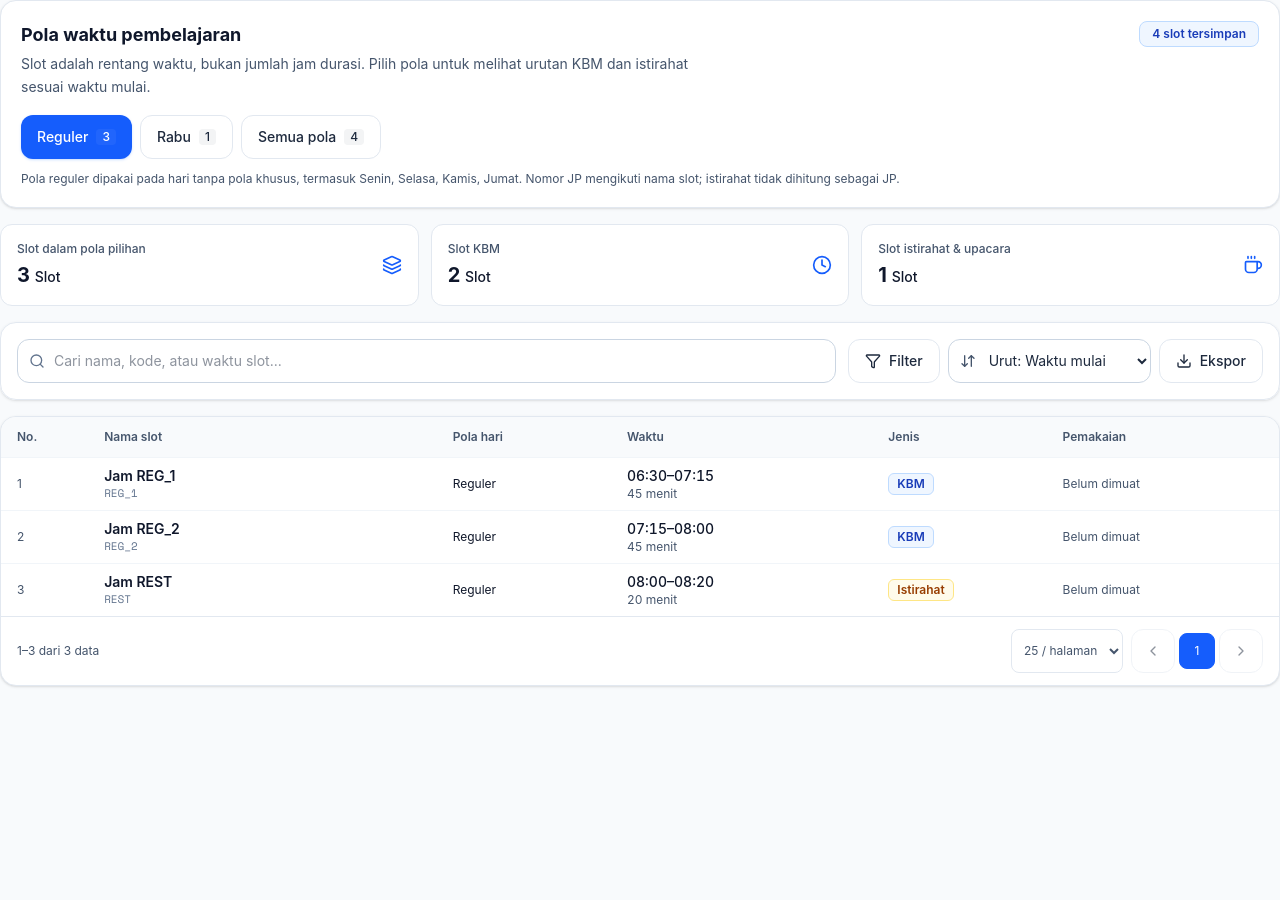
Scenario: Pola slot dan papan mingguan › nomor baris dimulai 1 pada pola Rabu, bukan 201, dan istirahat diurutkan menurut jam
This screenshot has width=1280, height=900.
Expected: the row that starts with "Jam REG_1" is shown, x1=104 y1=467 x2=176 y2=484
What coordinates should you click on to do the following:
click the button "Rabu 1"
I would click on:
 (186, 136)
Its box is x1=140 y1=114 x2=233 y2=158.
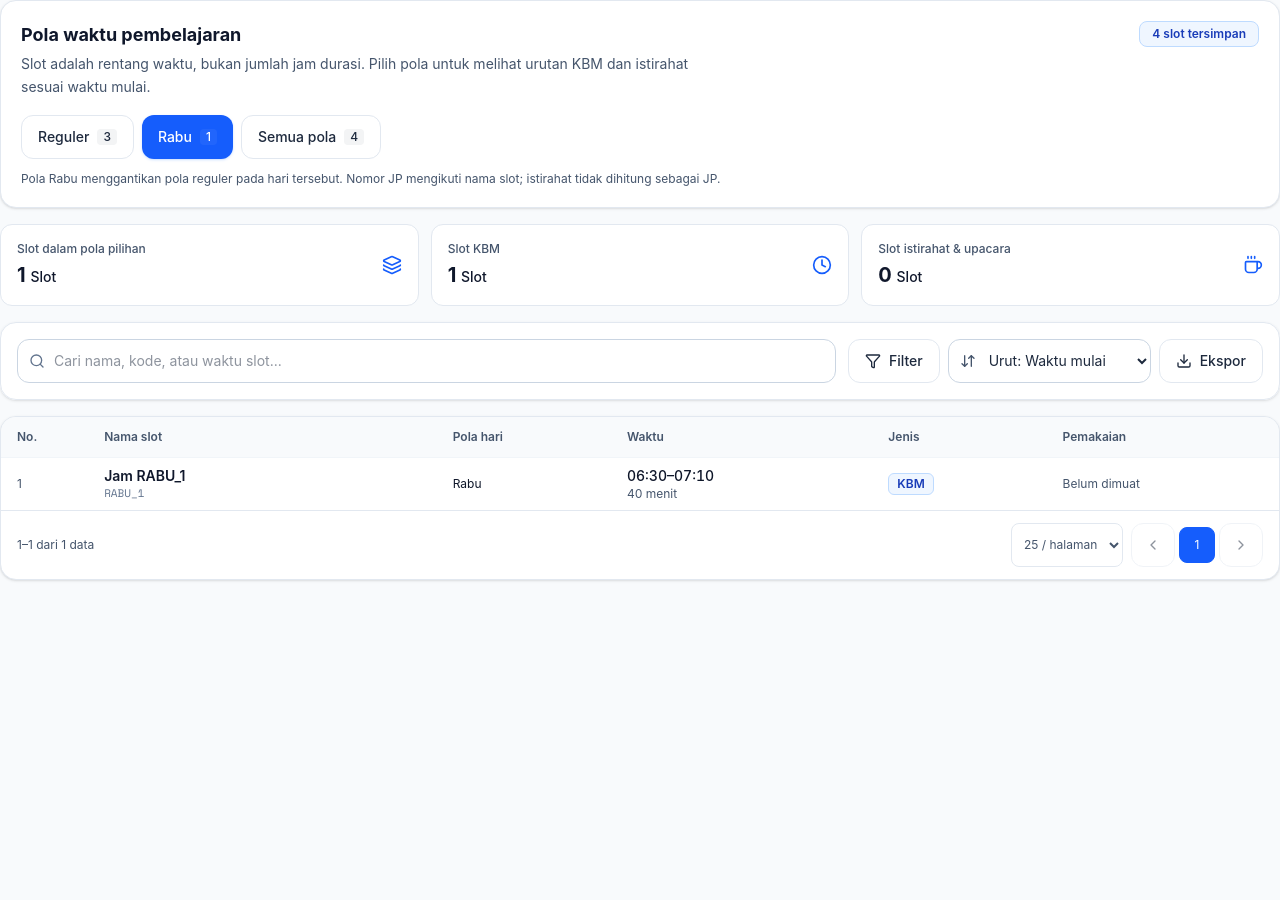
Expected: the cell "1" is shown, x1=1 y1=457 x2=88 y2=510
Expected: the row that starts with "Jam RABU_1" shows "40 menit", x1=1 y1=457 x2=1279 y2=510
